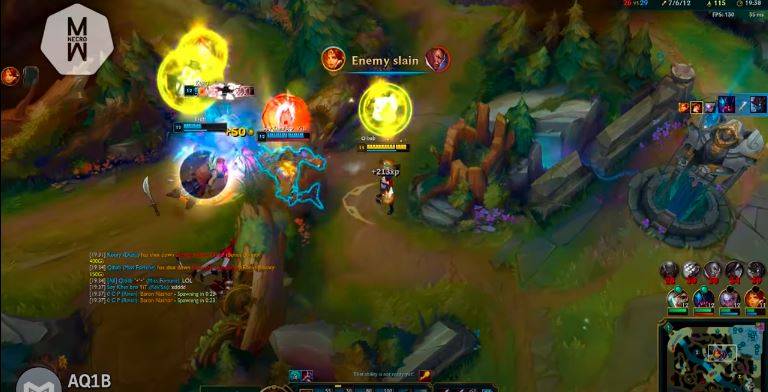bar: (182, 83, 257, 97), (172, 120, 230, 135), (355, 140, 413, 154), (256, 130, 310, 142)
